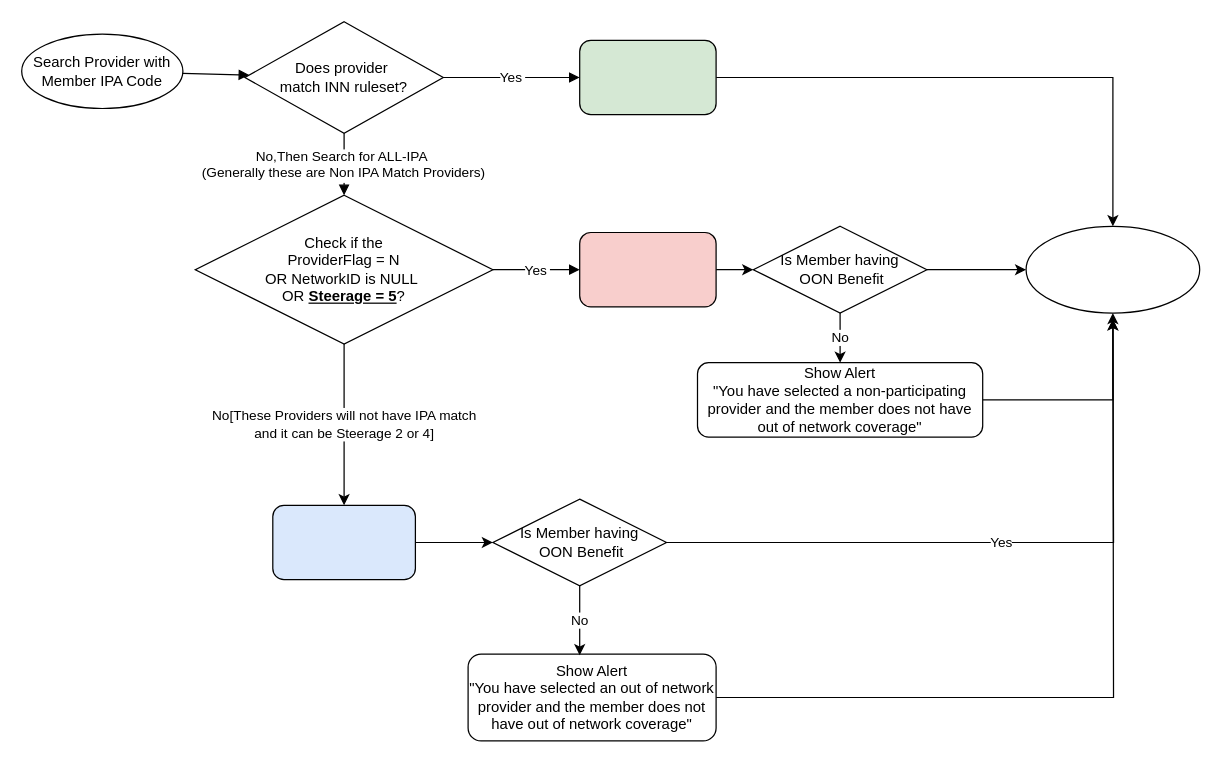
The diagram is 1221 pixels wide and 763 high, and some of its shapes have lost their labels. Each missing label, with the centre of its shape:
Allow Site selection and build Request: (x=1112, y=269)
NON PAR PROVIDER: (x=647, y=269)
PAR INN PROVIDER: (x=647, y=77)
PAR OON PROVIDER: (x=343, y=542)
